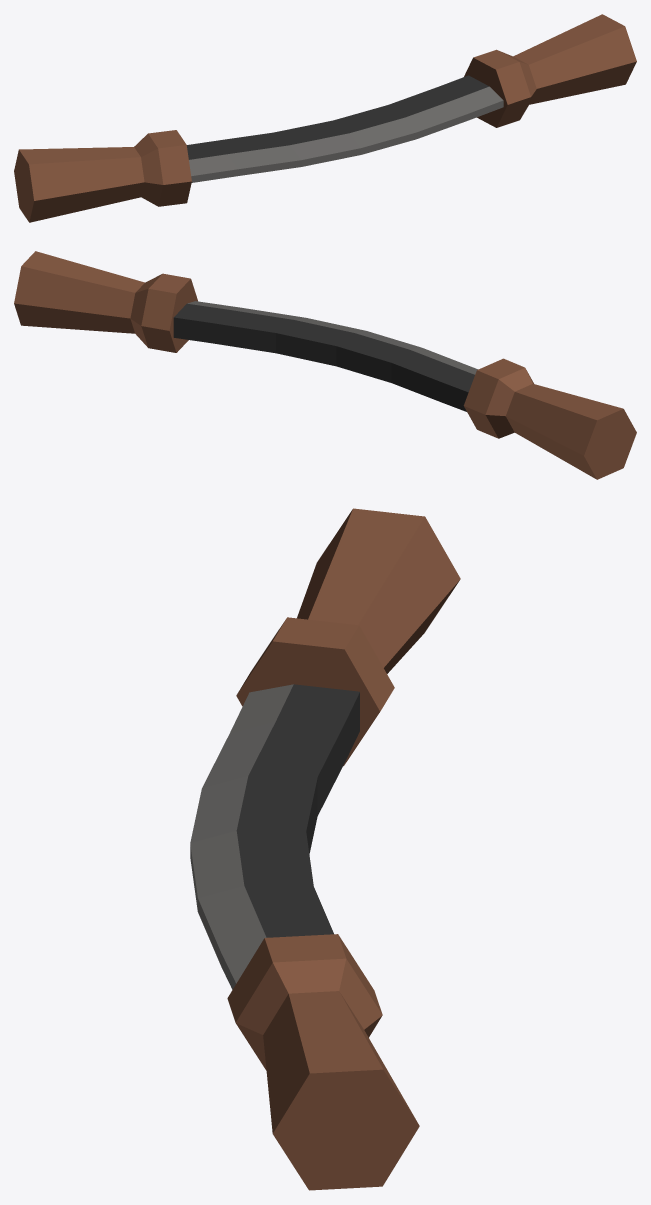
Rendered from knife_for_leather.fbx.
3 views of the same model, one above another, from view 1: azimuth 30°, elevation 25°; view 2: azimuth 150°, elevation 25°; view 3: azimuth 270°, elevation 25° (orthographic). The views are drawn at different scales.
Visible parts, largest first — view 1: knife_for_leather.006; view 2: knife_for_leather.006; view 3: knife_for_leather.006.
Part boxes in pixels (x1,y1,x2,y2): knife_for_leather.006: [14, 14, 636, 222]; knife_for_leather.006: [14, 251, 636, 479]; knife_for_leather.006: [190, 508, 460, 1190].
Size of the model in its own units: 33.53 by 3.34 by 6.64.
